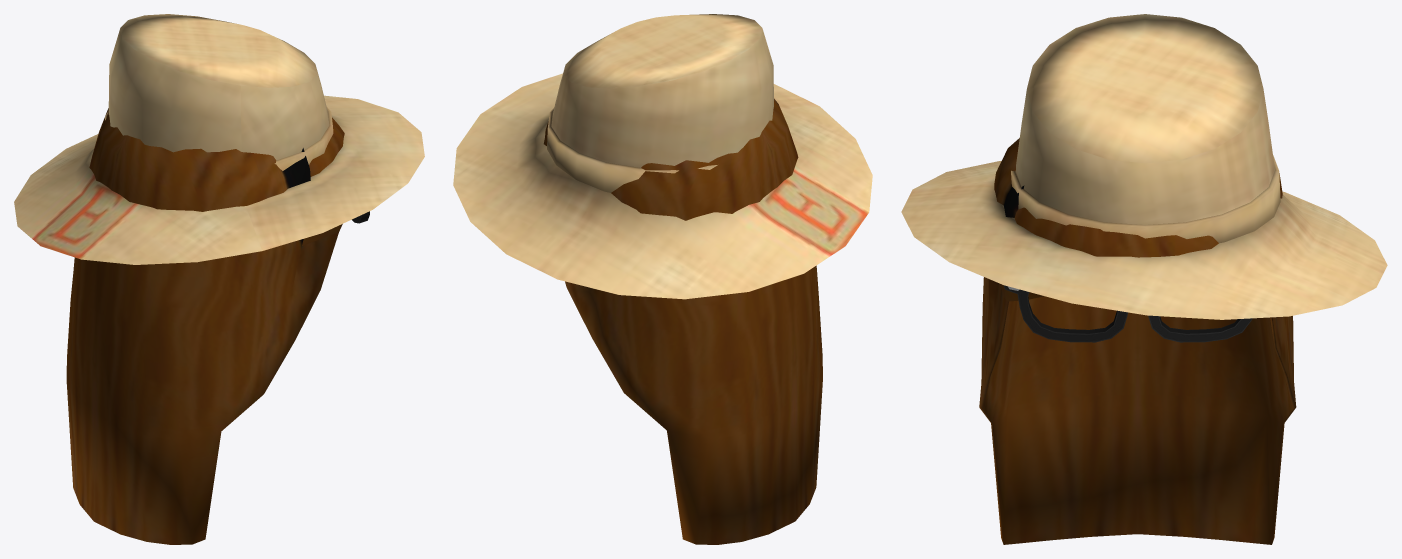
Rendered from acc.glb.
The picture shows the model from 3 angles, left to right: view 1: azimuth 30°, elevation 25°; view 2: azimuth 150°, elevation 25°; view 3: azimuth 270°, elevation 25°; orthographic projection. The views are drawn at different scales.
Visible parts, largest first — view 1: Handle.001, Erik's hat; view 2: Erik's hat, Handle.001; view 3: Erik's hat, Handle.001, Handle.
Part boxes in pixels (x1,y1,x2,y2): Handle.001: (66, 108, 344, 544); Erik's hat: (14, 14, 424, 264); Erik's hat: (453, 14, 872, 299); Handle.001: (543, 98, 822, 544); Erik's hat: (901, 14, 1387, 319); Handle.001: (979, 138, 1296, 544); Handle: (1003, 285, 1252, 342).
Bounding box in the file's own units: 2.12 × 2.59 × 2.12.
3 materials, 3 textured.
